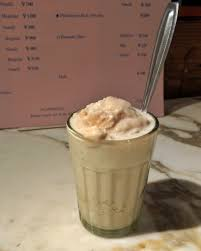jigirthanda: (72, 104, 144, 217)
